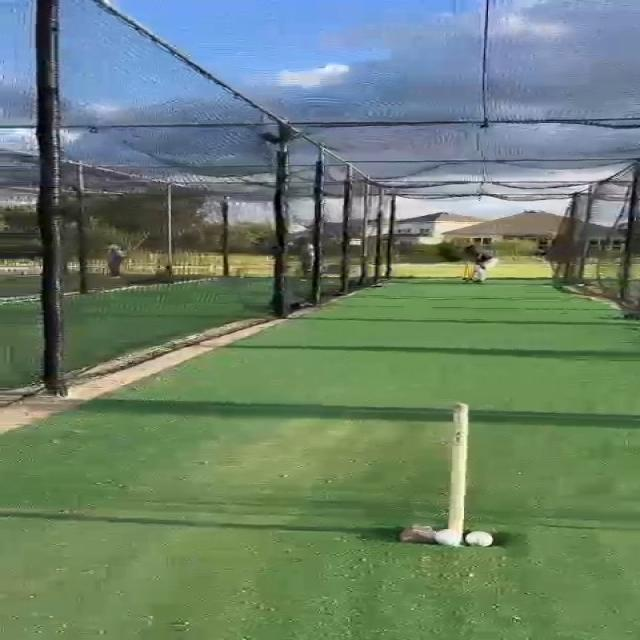batsman: (462, 244, 500, 284)
